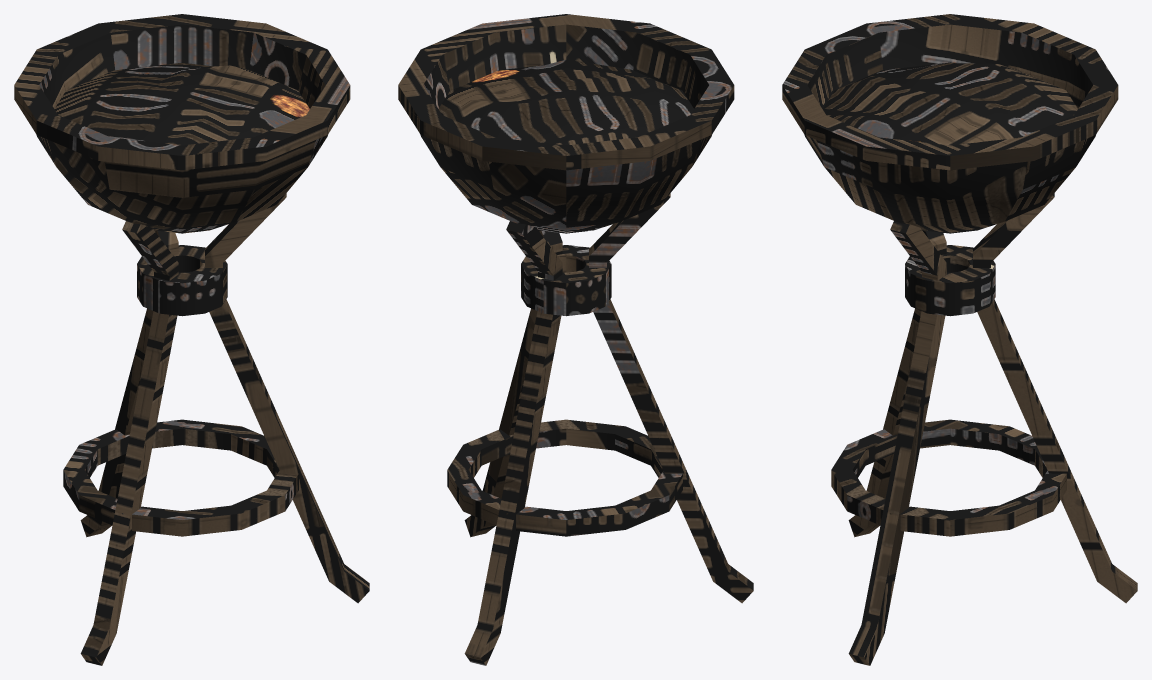
The model's file is brasero.fbx.
3 renders of one model, left to right at view 1: azimuth 30°, elevation 25°; view 2: azimuth 150°, elevation 25°; view 3: azimuth 270°, elevation 25°, orthographic.
Visible parts, largest first — view 1: brasero; view 2: brasero; view 3: brasero.
Part boxes in pixels (x1,y1,x2,y2): brasero: (14, 14, 369, 665); brasero: (398, 14, 753, 665); brasero: (782, 14, 1137, 665).
Bounding box in the file's own units: 0.74 × 1.25 × 0.7828.
1 material, 1 textured.
